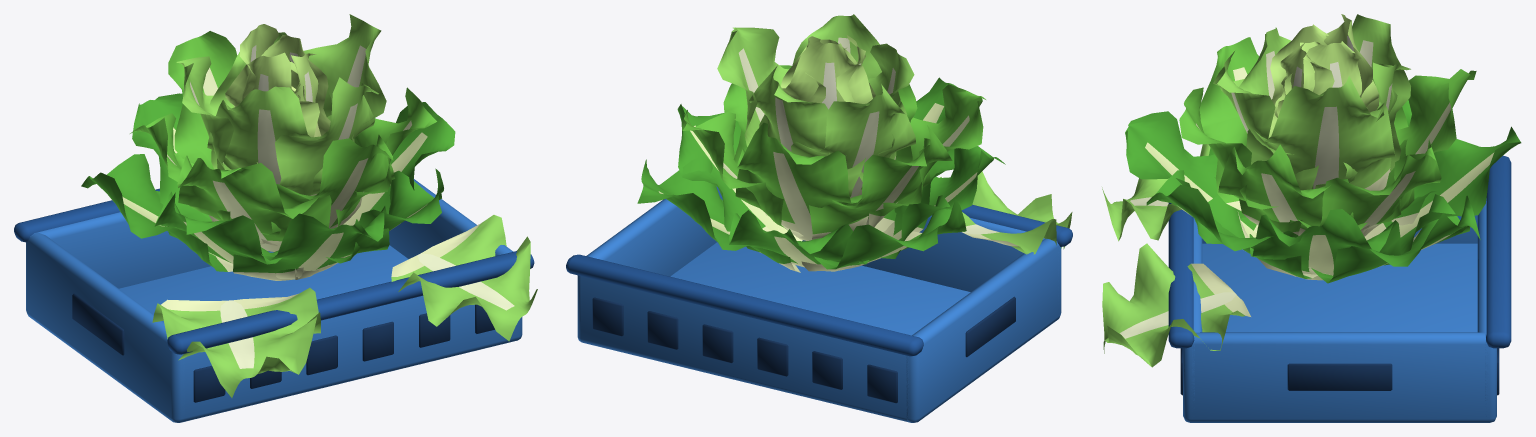
Rendered from dispenser_lettuce.glb.
3 views of the same model, side by side, from view 1: azimuth 30°, elevation 25°; view 2: azimuth 150°, elevation 25°; view 3: azimuth 270°, elevation 25° (orthographic). The views are drawn at different scales.
Parts seen in each view (by area): view 1: DispenserLettuce; view 2: DispenserLettuce; view 3: DispenserLettuce.
Boxes of the visible parts, box(x1,y1,x2,y2) form: DispenserLettuce: box(14, 14, 537, 422); DispenserLettuce: box(566, 14, 1072, 422); DispenserLettuce: box(1102, 14, 1521, 422).
Bounding box in the file's own units: 5.76 × 4.62 × 5.62.
